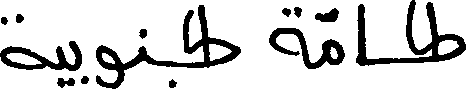ا: (174, 4, 194, 54), (354, 1, 367, 65), (198, 5, 209, 67), (427, 2, 438, 62)
ة: (0, 12, 46, 70), (268, 4, 304, 65)
ج: (169, 37, 248, 88)
ح: (421, 32, 464, 65)
ل: (402, 0, 419, 52)
م: (322, 38, 343, 65)
ن: (137, 27, 146, 64)
و: (93, 42, 124, 87)
ي: (54, 43, 73, 87), (73, 38, 88, 82)
